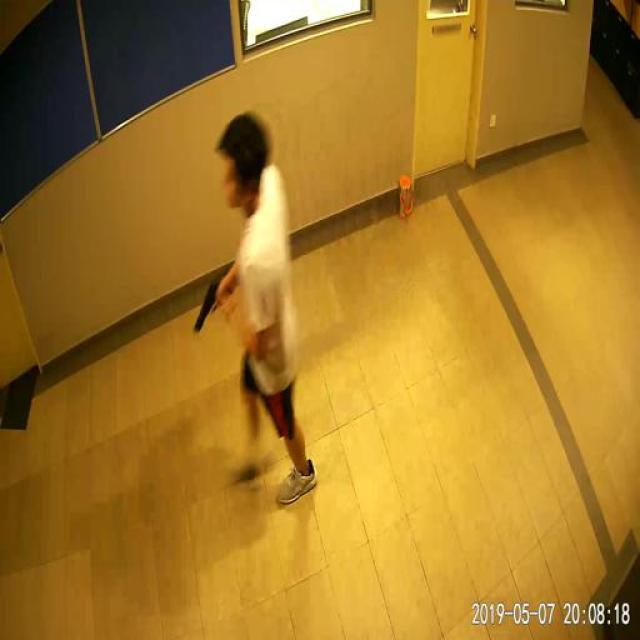Gun: (182, 273, 230, 336)
